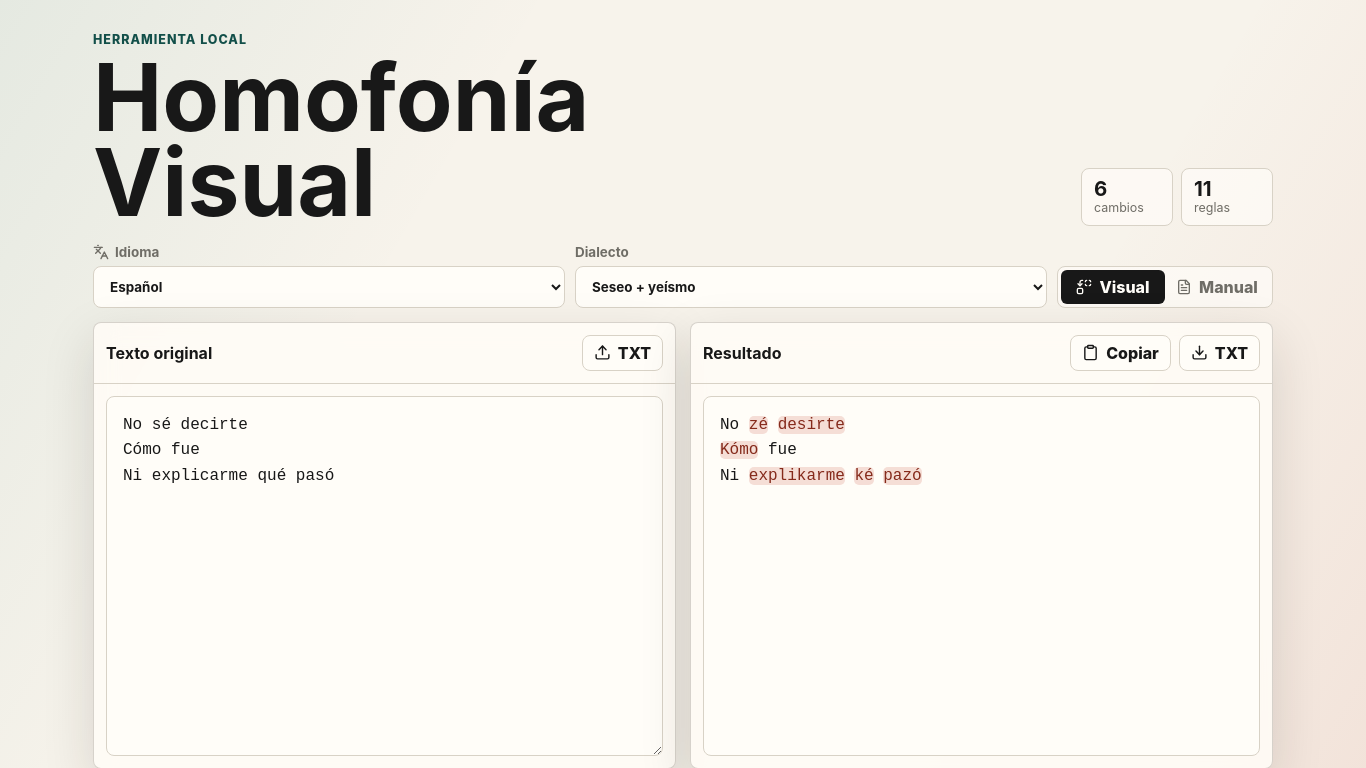
App › announces a denied clipboard write and clears the notice on retry
Replace the text in the text box named "Texto original" with "Mi casa": (384, 576) [106, 396, 663, 756]
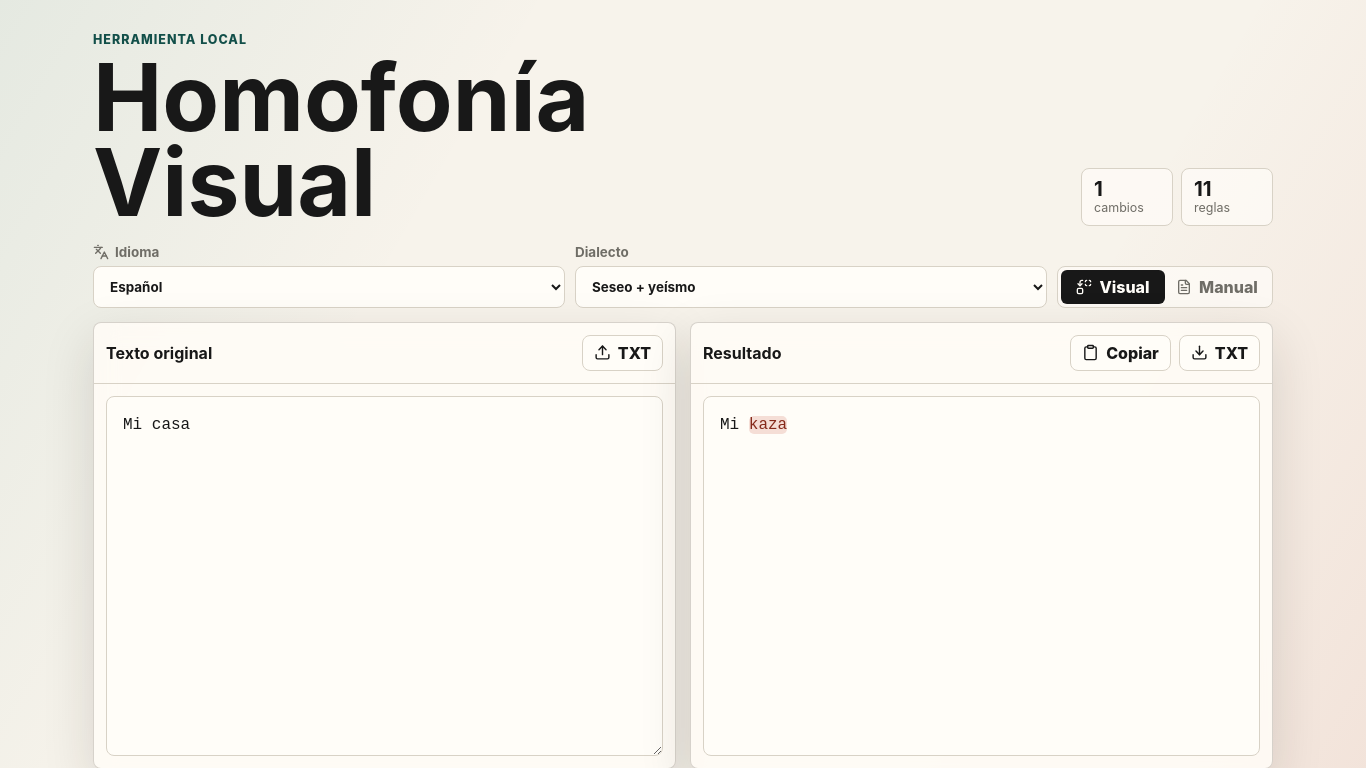
Click the button "Copiar": (1120, 353) [1070, 335, 1171, 371]
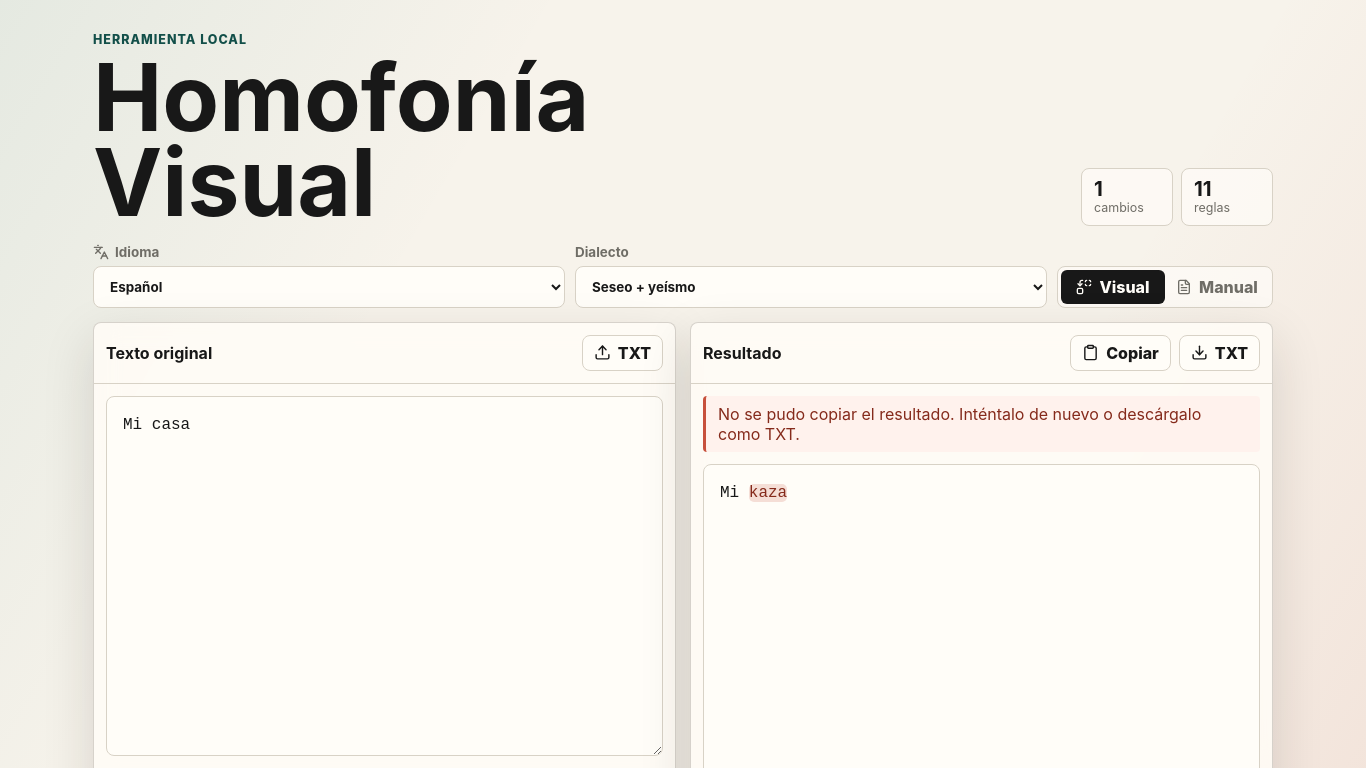
Check: the message shows "No se pudo copiar el resultado", box [718, 404, 1201, 444]
Click the button "Copiar": (1120, 353) [1070, 335, 1171, 371]
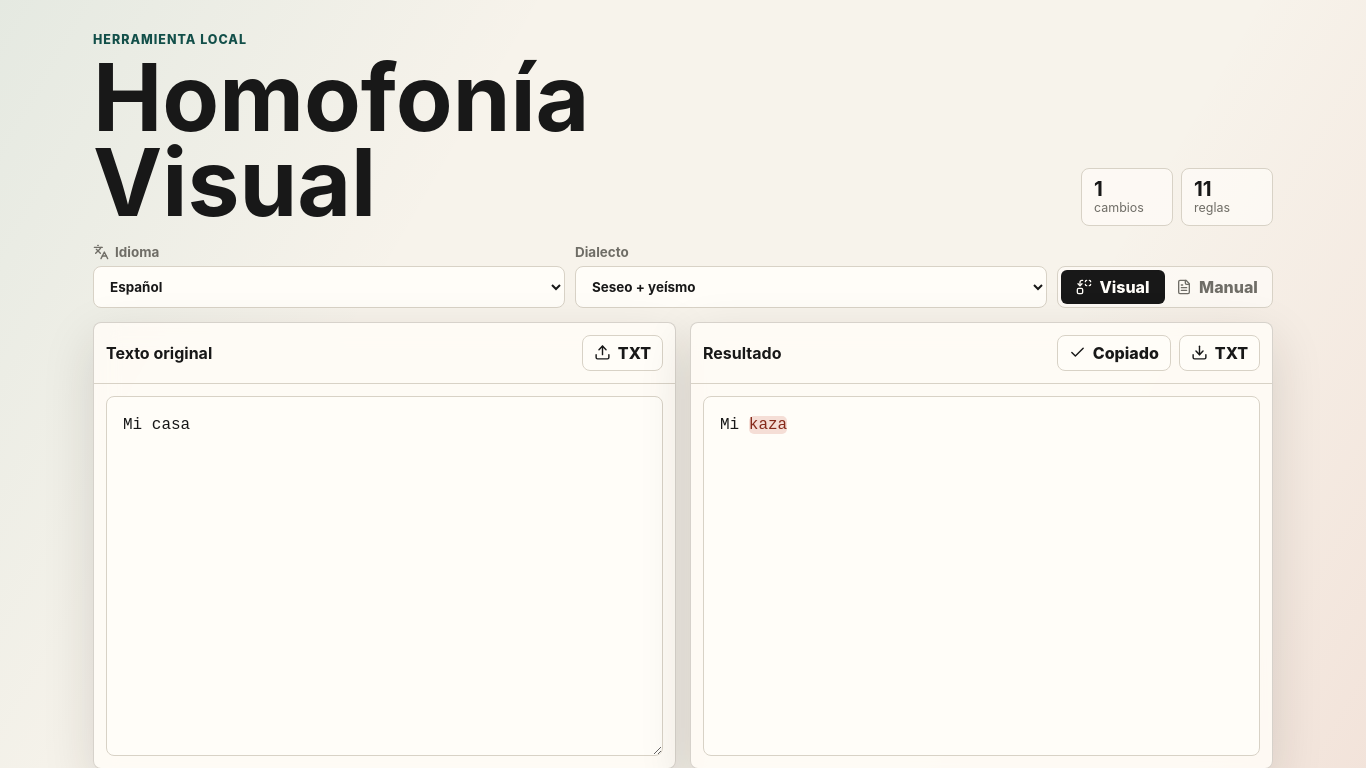
Check: the text "No se pudo copiar" is gone
Check: the button "Copiado" is shown, box [1057, 335, 1171, 371]
